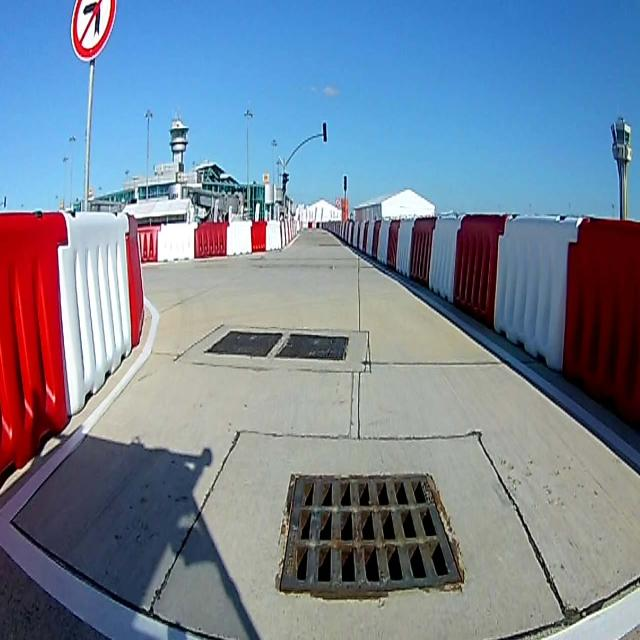soladonulmez: (71, 1, 111, 60)
